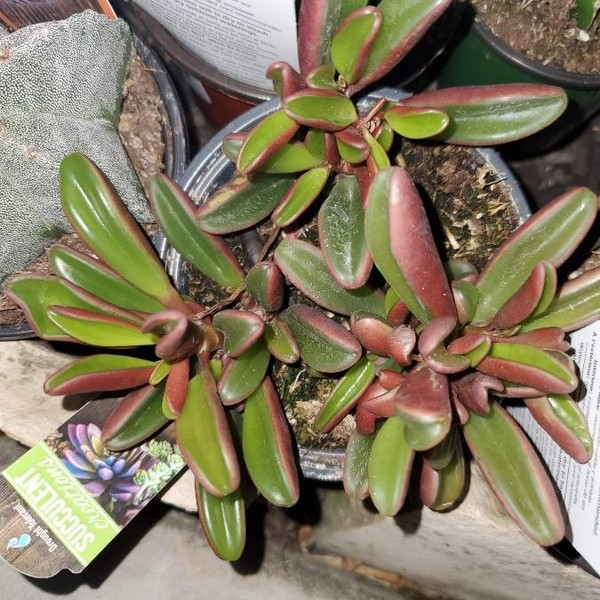obstacle: (59, 20, 568, 535)
